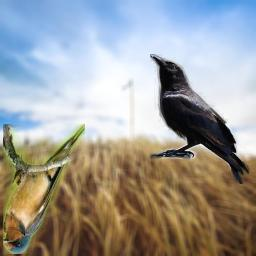Crow: (150, 54, 250, 184)
Swallow: (3, 124, 85, 254)
